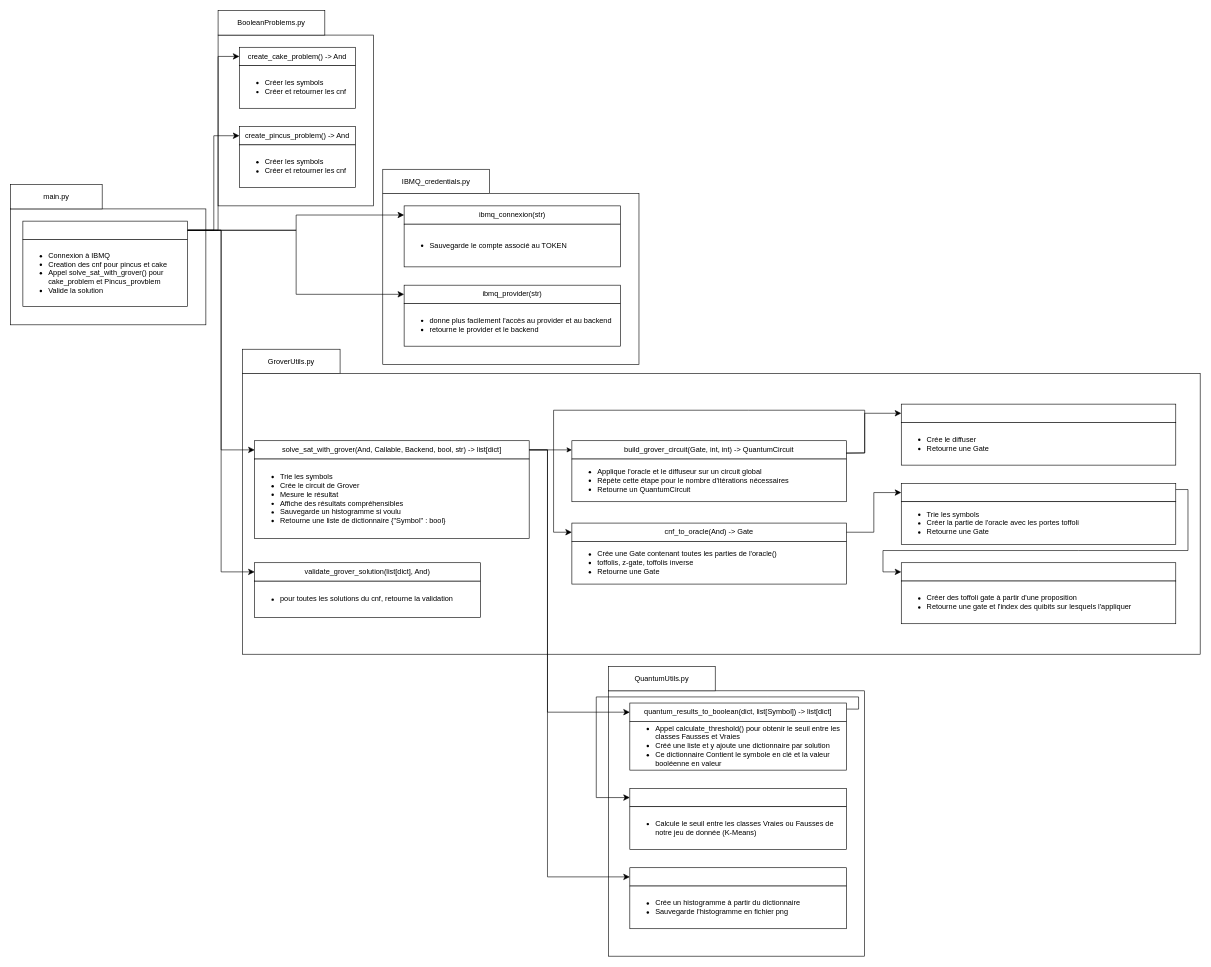
Some shapes in this 1211 by 967 pixel diagram are drawn without their labels. The centre of each missing label's shape, as x and y in pixels:
build_diffuser(int) -> Gate: [1038,413]
calculate_threshold(list) -> float: [737,797]
create_oracle_gates(And) -> Gate: [1038,492]
disjuction_gate(QuantumCircuit, list[symbols], Or, int) -> CCXGate, str: [1038,571]
main(): [105,230]
save_histogram_png(dict, str): [737,876]
